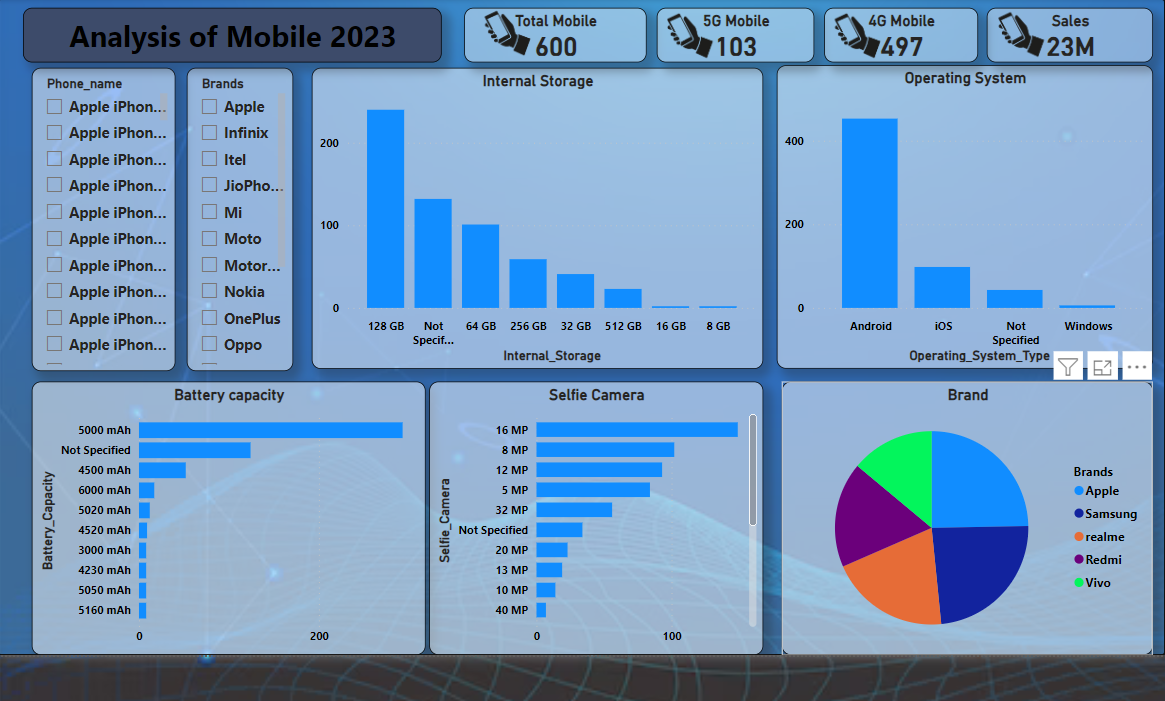

This screenshot's page, from the dashboard's own definition file:
{"tool":"powerbi","page":{"name":"Page 1","canvas":[1280,720],"ordinal":0},"visuals":[{"type":"columnChart","title":"Internal Storage","fields":{"Category":["Mobile Analysis.Internal_Storage"],"Y":["Sum(Mobile Analysis.Total_Mobile)"]},"box":[344.1,75.4,494.9,330.4],"z":0},{"type":"slicer","fields":{"Values":["Mobile Analysis.Brands"]},"box":[207,75.4,116.5,333.2],"z":1000},{"type":"slicer","fields":{"Values":["Mobile Analysis.Phone_name"]},"box":[37,75.4,157.7,333.2],"z":2000},{"type":"columnChart","title":"Operating System","fields":{"Category":["Mobile Analysis.Operating_System_Type"],"Y":["Sum(Mobile Analysis.Total_Mobile)"]},"box":[854.2,72.7,412.7,333.2],"z":3000},{"type":"clusteredBarChart","title":"Battery capacity ","fields":{"Category":["Mobile Analysis.Battery_Capacity"],"Y":["Sum(Mobile Analysis.Total_Mobile)"]},"box":[37,419.5,431.9,300.3],"z":4000},{"type":"pieChart","title":"Brand","fields":{"Category":["Mobile Analysis.Brands"],"Y":["Sum(Mobile Analysis.Total_Mobile)"]},"box":[859.6,419.5,407.2,300.3],"z":5000},{"type":"barChart","title":"Selfie Camera","fields":{"Category":["Mobile Analysis.Selfie_Camera"],"Y":["Sum(Mobile Analysis.Total_Mobile)"]},"box":[473,419.5,366.1,300.3],"z":6000},{"type":"textbox","box":[27.4,9.6,459.3,60.3],"z":8000},{"type":"card","title":"Total Mobile","fields":{"Values":["Sum(Mobile Analysis.Total_Mobile)"]},"box":[511.4,9.6,200.2,60.3],"z":9000},{"type":"card","title":"Sales","fields":{"Values":["Sum(Mobile Analysis.Price)"]},"box":[1084.5,9.6,182.3,60.3],"z":10000},{"type":"card","title":"5G Mobile","fields":{"Values":["Mobile Analysis.Total 5G"]},"box":[722.5,9.6,172.8,60.3],"z":11000},{"type":"image","box":[511.4,1.4,94.6,78.1],"z":11001},{"type":"image","box":[711.6,4.1,94.6,78.1],"z":11002},{"type":"card","title":"4G Mobile","fields":{"Values":["Mobile Analysis.Total 4G"]},"box":[906.3,9.6,168.6,60.3],"z":11003},{"type":"image","box":[895.3,4.1,94.6,78.1],"z":11004},{"type":"image","box":[1074.9,2.7,94.6,78.1],"z":11005}]}

Visuals, with their boxes in screenshot pixels (x1, y1, x2, y2):
"Internal Storage" columnChart: bbox=(315, 68, 759, 364)
slicer - Mobile Analysis.Brands: bbox=(192, 68, 296, 367)
slicer - Mobile Analysis.Phone_name: bbox=(39, 68, 181, 367)
"Operating System" columnChart: bbox=(773, 65, 1143, 364)
"Battery capacity " clusteredBarChart: bbox=(39, 377, 427, 646)
"Brand" pieChart: bbox=(778, 377, 1143, 646)
"Selfie Camera" barChart: bbox=(431, 377, 759, 646)
textbox: bbox=(31, 9, 443, 63)
"Total Mobile" card: bbox=(465, 9, 645, 63)
"Sales" card: bbox=(979, 9, 1143, 63)
"5G Mobile" card: bbox=(655, 9, 810, 63)
image: bbox=(465, 1, 550, 71)
image: bbox=(645, 4, 730, 74)
"4G Mobile" card: bbox=(820, 9, 971, 63)
image: bbox=(810, 4, 895, 74)
image: bbox=(971, 2, 1056, 73)
